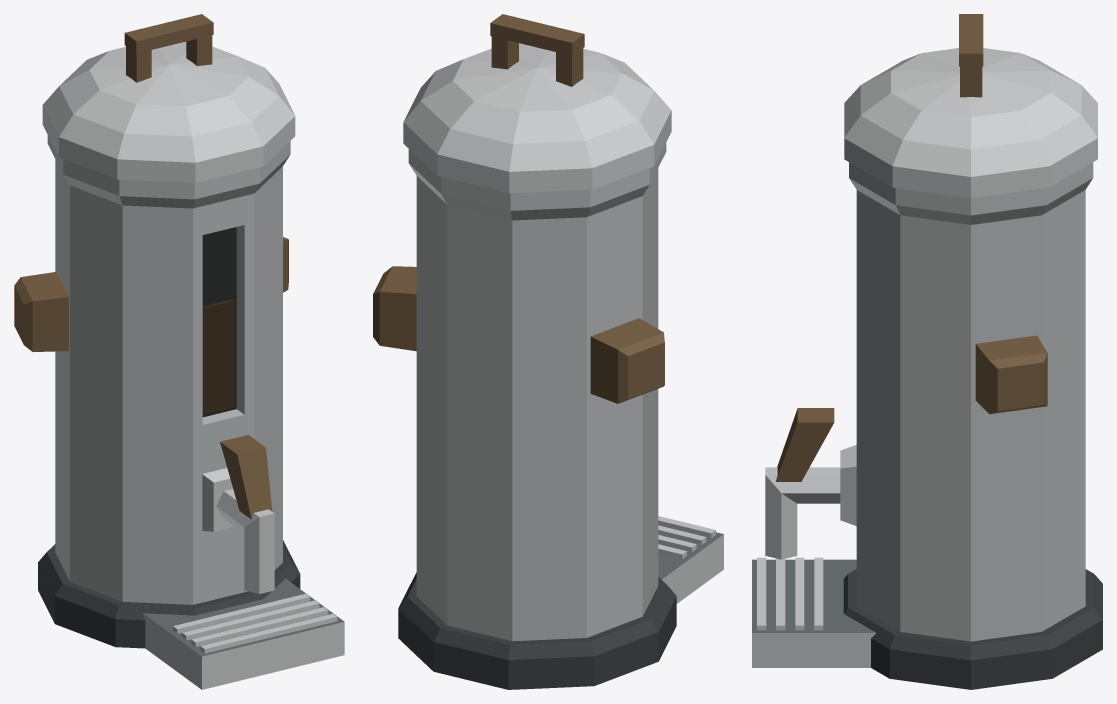
Rendered from batch-brew-urn-f54a3b.glb.
3 views of the same model, side by side, from view 1: azimuth 30°, elevation 25°; view 2: azimuth 150°, elevation 25°; view 3: azimuth 270°, elevation 25° (orthographic). The views are drawn at different scales.
Visible parts, largest first — view 1: batch-brew-urn, lid, tray, tap-lever; view 2: batch-brew-urn, lid, tray; view 3: batch-brew-urn, lid, tray, tap-lever.
Boxes of the visible parts, x1,y1,x2,y2 form: batch-brew-urn: (14,135,300,648); lid: (42,14,295,182); tray: (143,578,344,689); tap-lever: (220,435,272,519); batch-brew-urn: (373,143,676,689); lid: (403,14,671,193); tray: (658,516,723,603); batch-brew-urn: (765,162,1102,689); lid: (844,14,1097,198); tray: (752,557,875,667); tap-lever: (776,408,834,481).
Size of the model in its own units: 0.3158 by 0.647 by 0.3443.
